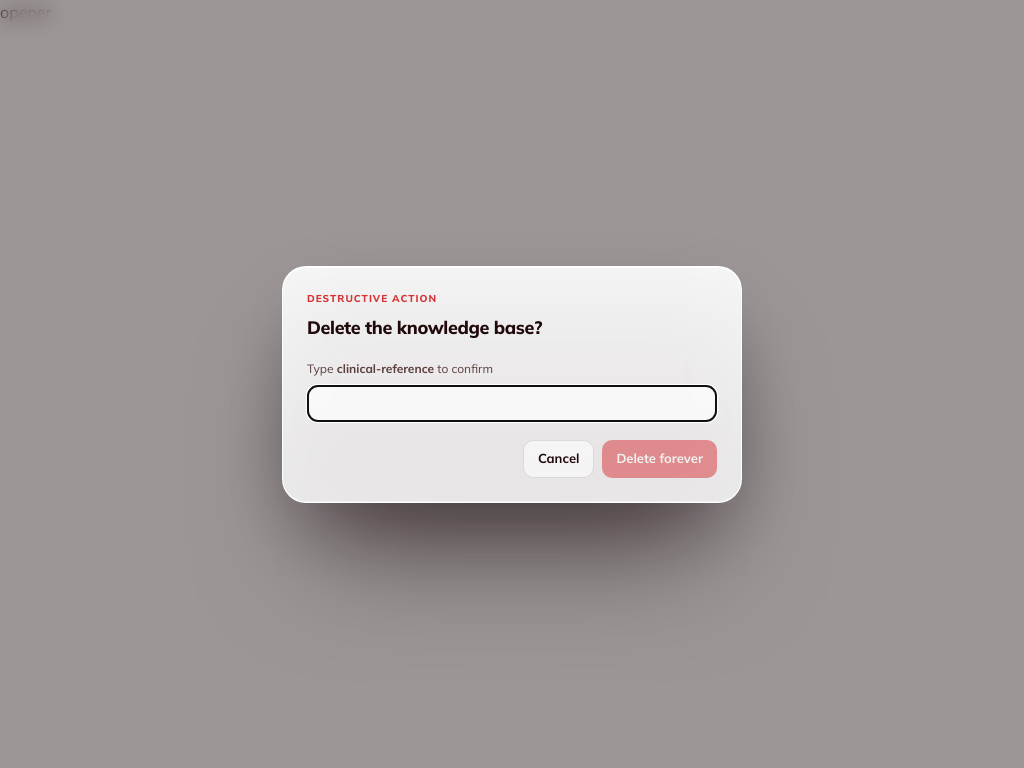
Scenario: typeToConfirm › does not carry a typed phrase into the next dialog
Type "clinical-reference" into the field labelled "Type clinical-reference to confirm" at point(512, 403), box top-left (307, 384), bottom-right (717, 422)
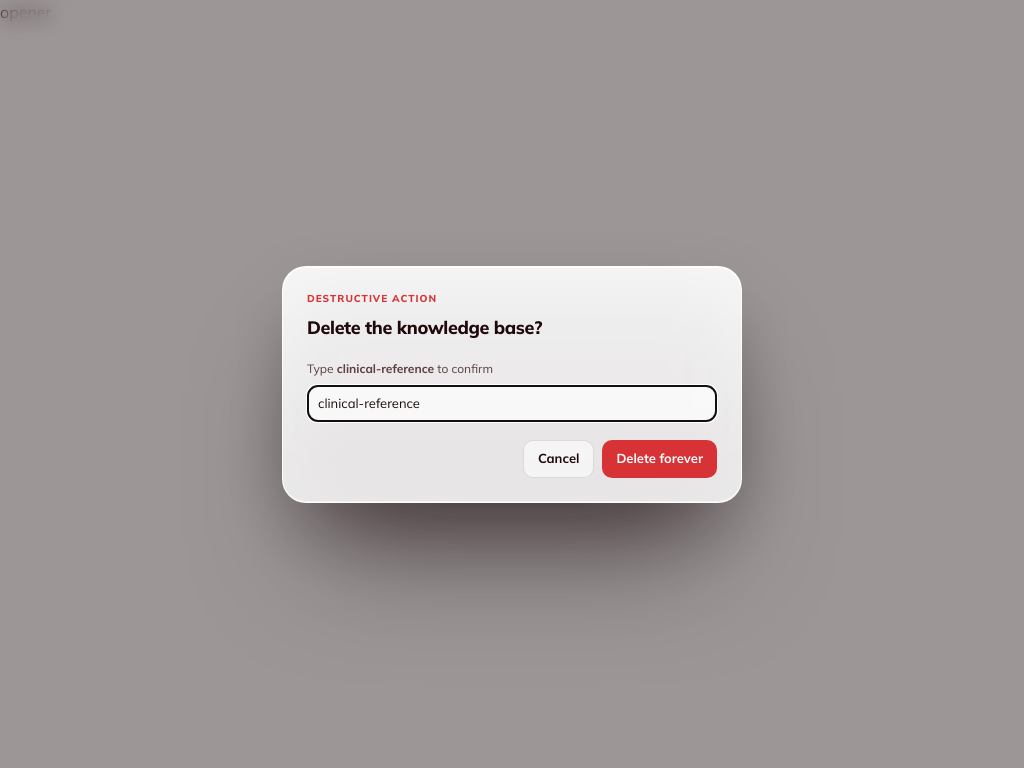
Click the button "Cancel" at point(559, 459), box top-left (523, 440), bottom-right (594, 478)
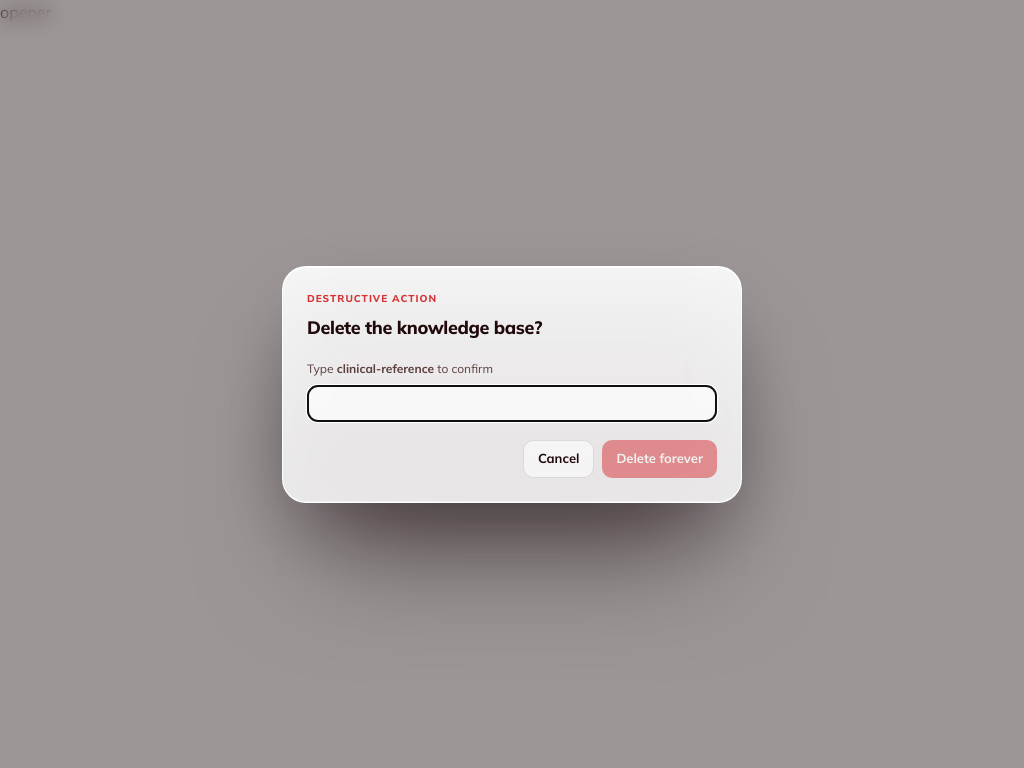
Expected: the button "Delete forever" is disabled, top-left (602, 440), bottom-right (717, 478)
